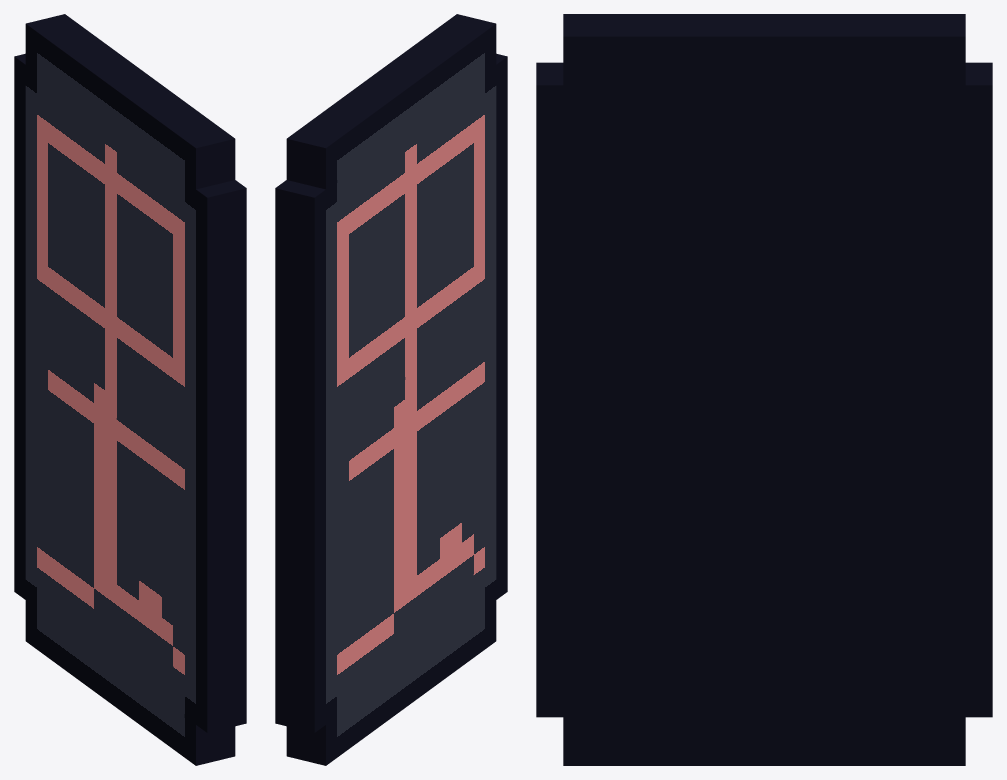
The model's file is literka_neo_3.dae.
3 views of the same model, side by side, from view 1: azimuth 30°, elevation 25°; view 2: azimuth 150°, elevation 25°; view 3: azimuth 270°, elevation 25° (orthographic). The views are drawn at different scales.
Parts seen in each view (by area): view 1: Content; view 2: Content; view 3: Content.
Part boxes in pixels (bbox=[...]): Content: bbox=[14, 14, 246, 765]; Content: bbox=[275, 14, 507, 765]; Content: bbox=[536, 14, 992, 765].
Bounding box in the file's own units: 2 × 30 × 17.
Materials: 1 (1 with a texture image).
